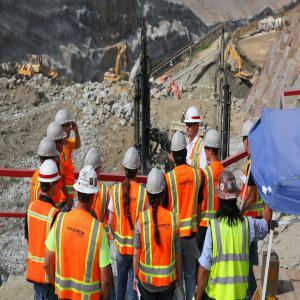white: (77, 166, 100, 206), (40, 160, 61, 196), (147, 168, 166, 203), (205, 130, 224, 162), (38, 138, 58, 165), (124, 147, 141, 178), (47, 123, 65, 151), (172, 132, 189, 161), (85, 149, 103, 176), (56, 111, 73, 139), (185, 108, 200, 137), (242, 121, 255, 154)
